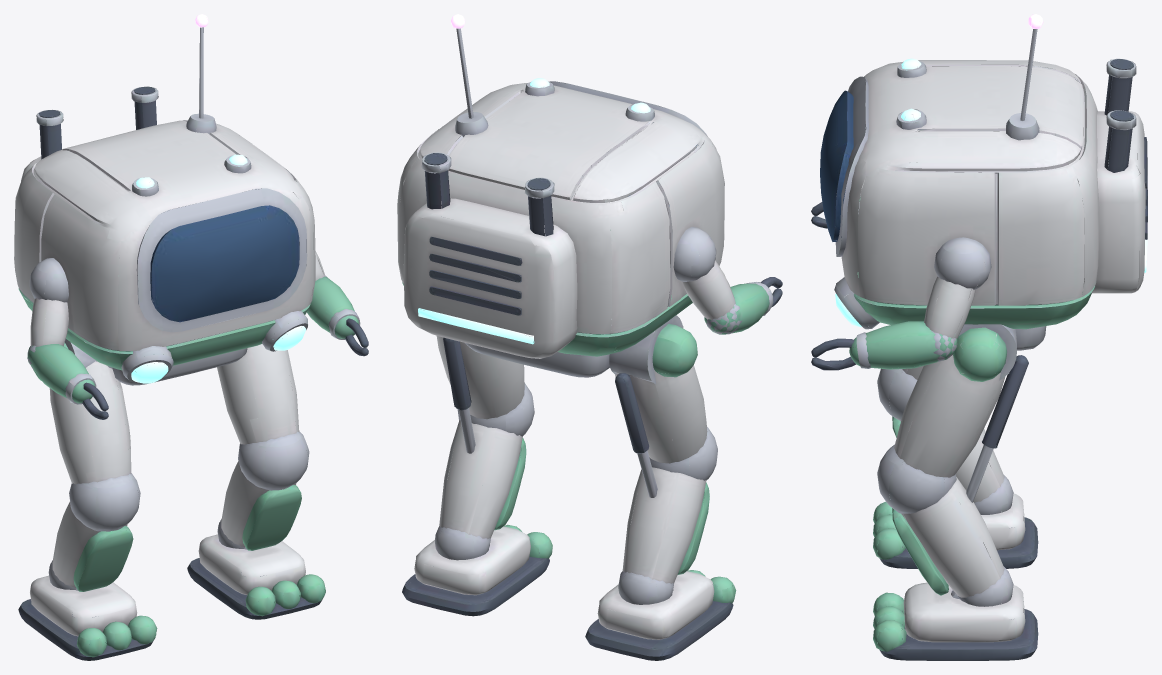
The model's file is robot_andante.glb.
3 renders of one model, left to right at view 1: azimuth 30°, elevation 25°; view 2: azimuth 150°, elevation 25°; view 3: azimuth 270°, elevation 25°, orthographic. The views are drawn at different scales.
Visible parts, largest first — view 1: mech-walker_antenna_glow; view 2: mech-walker_antenna_glow; view 3: mech-walker_antenna_glow.
Boxes of the visible parts, <box> form: mech-walker_antenna_glow: <box>14,14,368,660</box>; mech-walker_antenna_glow: <box>397,14,782,660</box>; mech-walker_antenna_glow: <box>811,14,1147,660</box>.
Bounding box in the file's own units: 2.3 × 4.02 × 1.99.
4 materials, 1 textured.
